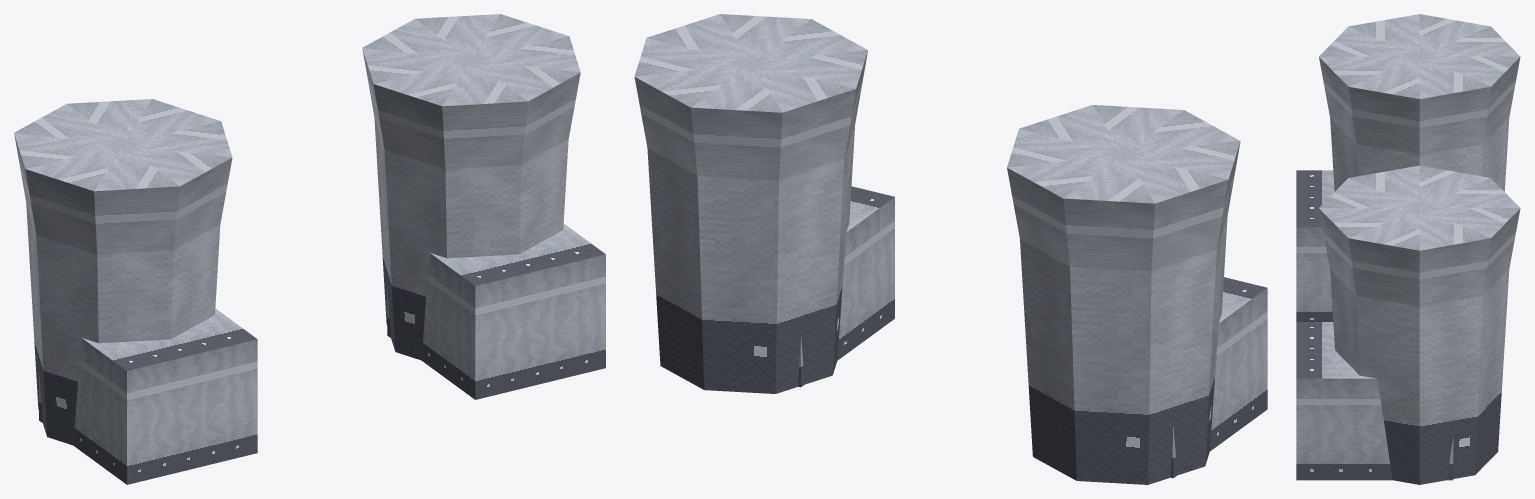
The model's file is luvas_de_ferro.glb.
3 views of the same model, side by side, from view 1: azimuth 30°, elevation 25°; view 2: azimuth 150°, elevation 25°; view 3: azimuth 270°, elevation 25° (orthographic). The views are drawn at different scales.
Visible parts, largest first — view 1: luvas_de_ferro; view 2: luvas_de_ferro; view 3: luvas_de_ferro.
Boxes of the visible parts, bbox=[...] form: luvas_de_ferro: bbox=[14, 14, 605, 484]; luvas_de_ferro: bbox=[634, 14, 1267, 484]; luvas_de_ferro: bbox=[1296, 14, 1520, 484].
Size of the model in its own units: 0.5 by 0.24 by 0.2.
Materials: 1 (1 with a texture image).
